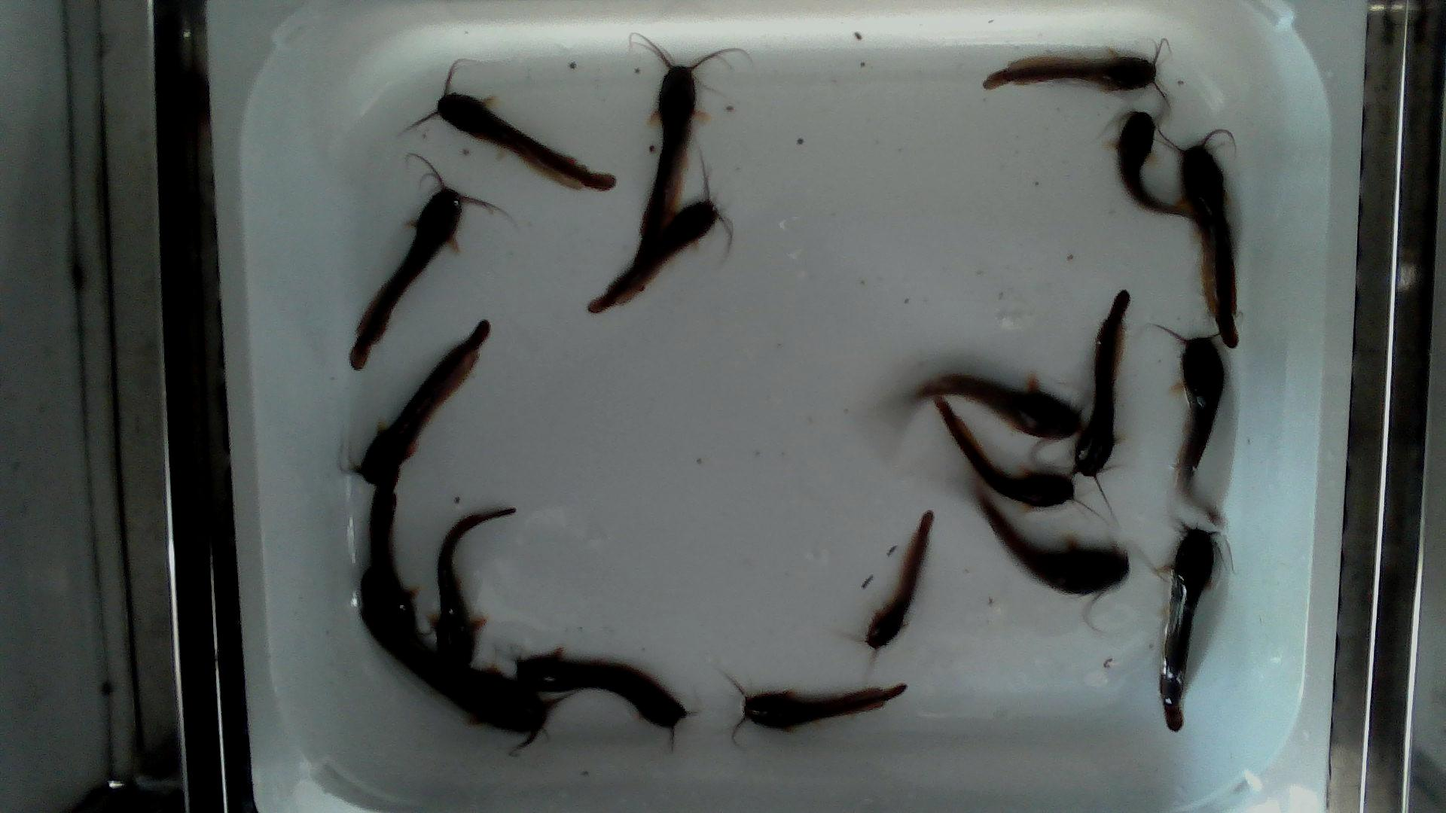lele: (349, 156, 515, 370), (360, 604, 566, 752), (397, 60, 615, 190), (582, 149, 732, 315), (639, 32, 737, 252), (358, 325, 483, 479), (1157, 124, 1237, 352), (978, 495, 1129, 595), (935, 398, 1073, 507), (722, 671, 906, 743), (518, 652, 689, 728), (1150, 318, 1223, 490), (435, 513, 514, 662), (1160, 529, 1215, 730), (917, 374, 1080, 437), (1075, 291, 1129, 476), (1117, 111, 1197, 226), (866, 511, 933, 648), (364, 444, 411, 626), (984, 54, 1156, 90)
